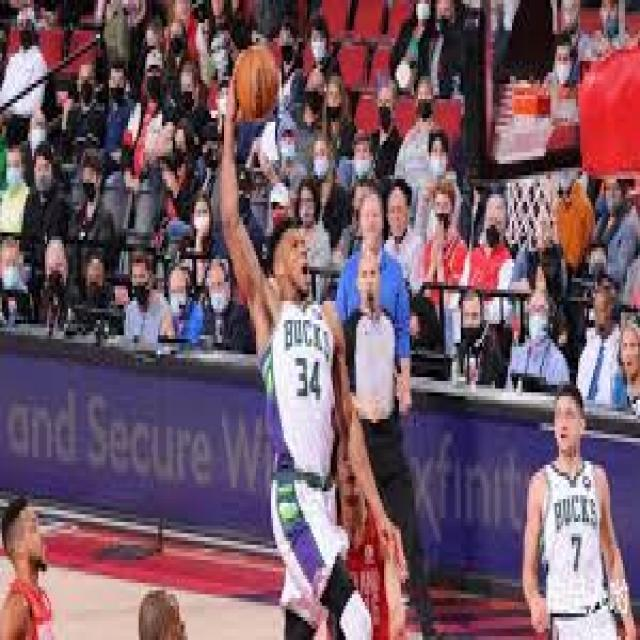rim: (237, 42, 280, 118)
